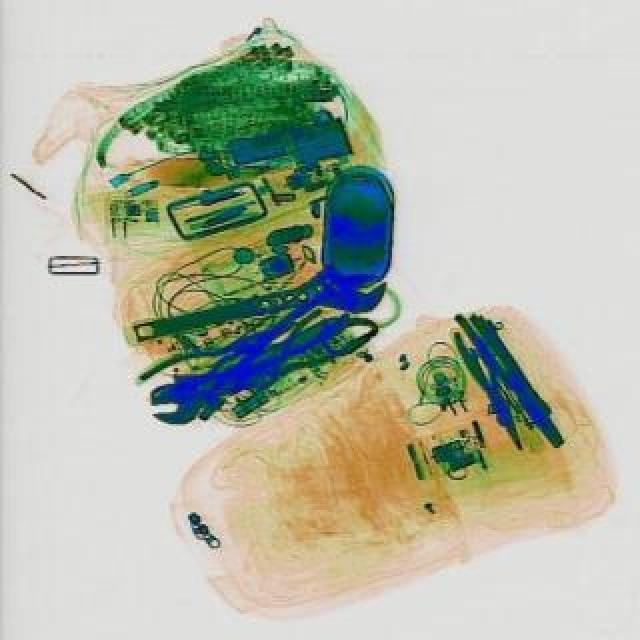scissors: (126, 250, 390, 362), (142, 298, 354, 434)
wrench: (132, 306, 292, 420), (450, 322, 532, 456)
